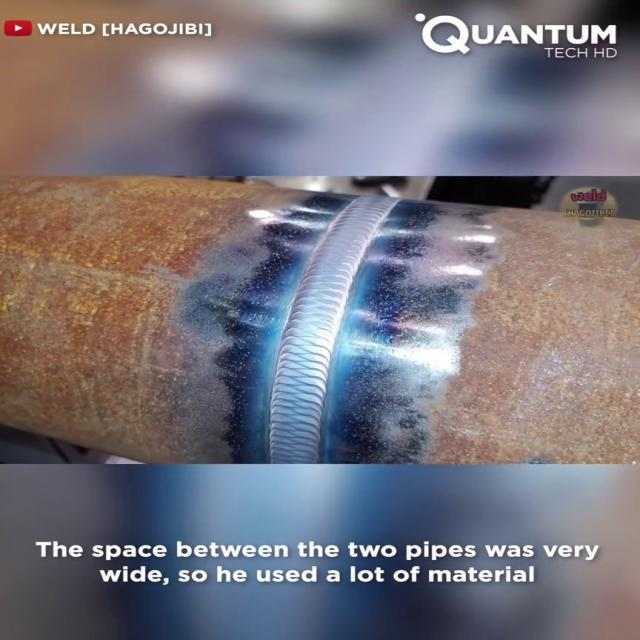Good Weld: (267, 199, 375, 463)
